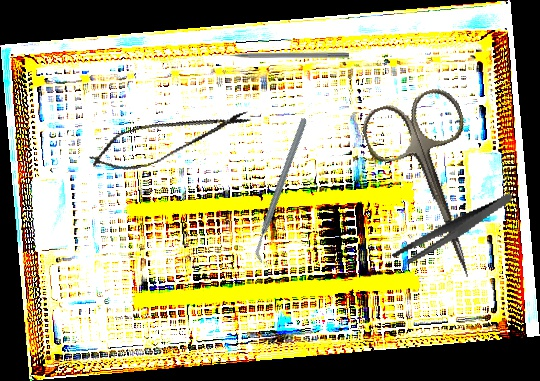Chopper: (209, 116, 354, 265)
Dressing Forceps: (384, 192, 522, 268)
Iris Scissors: (356, 82, 514, 295)
Micro Scissor: (83, 95, 256, 182)
Pusher: (214, 51, 349, 58)
